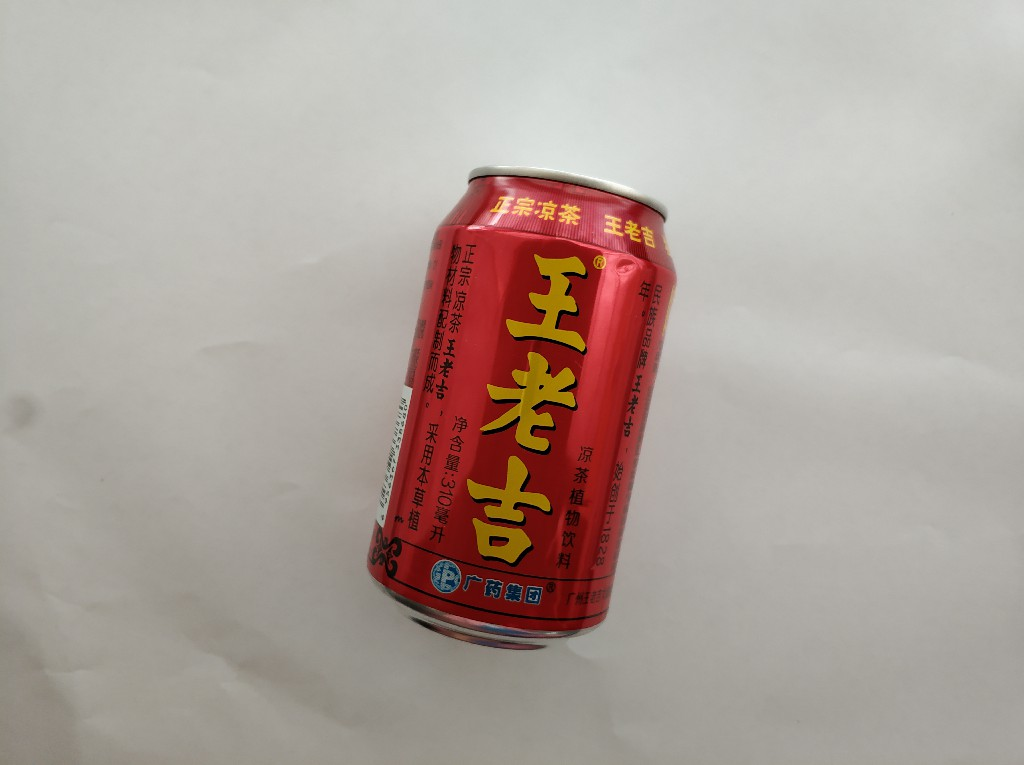can: (361, 159, 680, 659)
